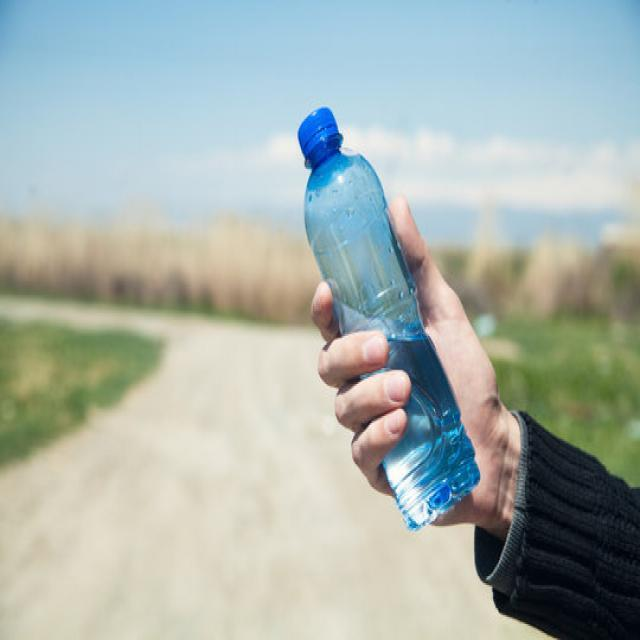plastic_bottle: (297, 106, 481, 531)
